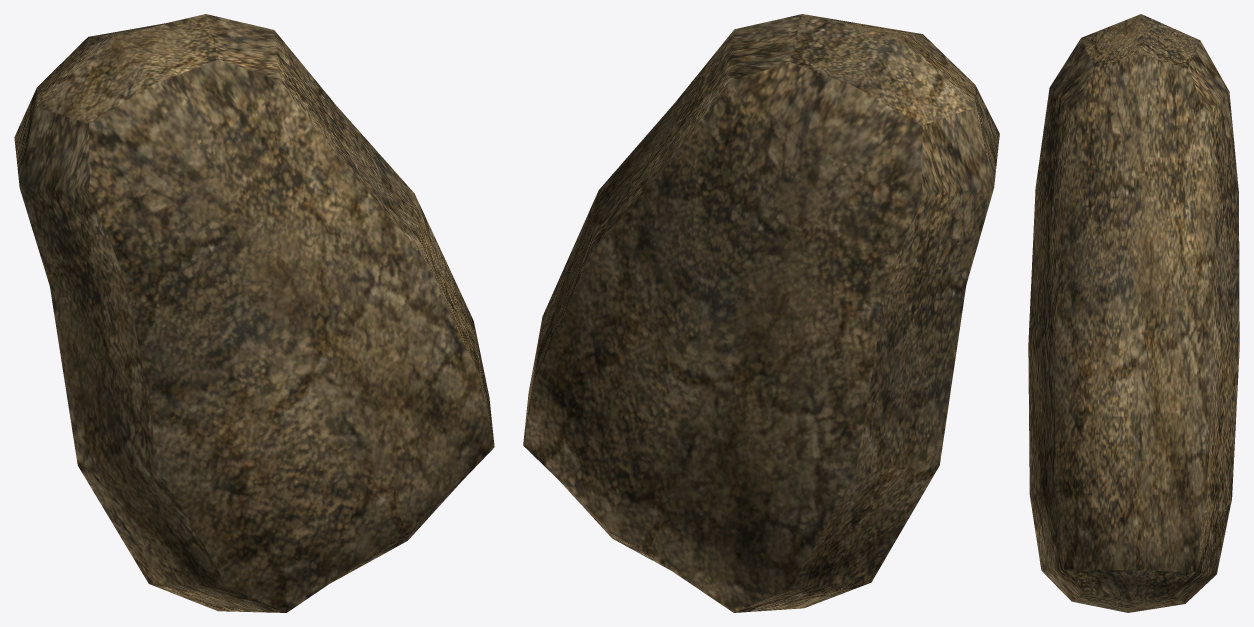
File: CH09_SMAUG_PLAYSURFACE_LONELYMOUNTAIN_LM_PLAYSURFACE04.fbx
3 views of the same model, side by side, from view 1: azimuth 30°, elevation 25°; view 2: azimuth 150°, elevation 25°; view 3: azimuth 270°, elevation 25° (orthographic). The views are drawn at different scales.
Parts seen in each view (by area): view 1: CH09_SMAUG_PLAYSURFACE_LONELYMOUNTAIN_LM_PLAYSURFACE04; view 2: CH09_SMAUG_PLAYSURFACE_LONELYMOUNTAIN_LM_PLAYSURFACE04; view 3: CH09_SMAUG_PLAYSURFACE_LONELYMOUNTAIN_LM_PLAYSURFACE04.
Boxes of the visible parts, <box> form: CH09_SMAUG_PLAYSURFACE_LONELYMOUNTAIN_LM_PLAYSURFACE04: <box>14,14,494,612</box>; CH09_SMAUG_PLAYSURFACE_LONELYMOUNTAIN_LM_PLAYSURFACE04: <box>523,14,999,612</box>; CH09_SMAUG_PLAYSURFACE_LONELYMOUNTAIN_LM_PLAYSURFACE04: <box>1028,14,1239,612</box>.
Bounding box in the file's own units: 15666 × 19114 × 6940.
Materials: 1 (1 with a texture image).
